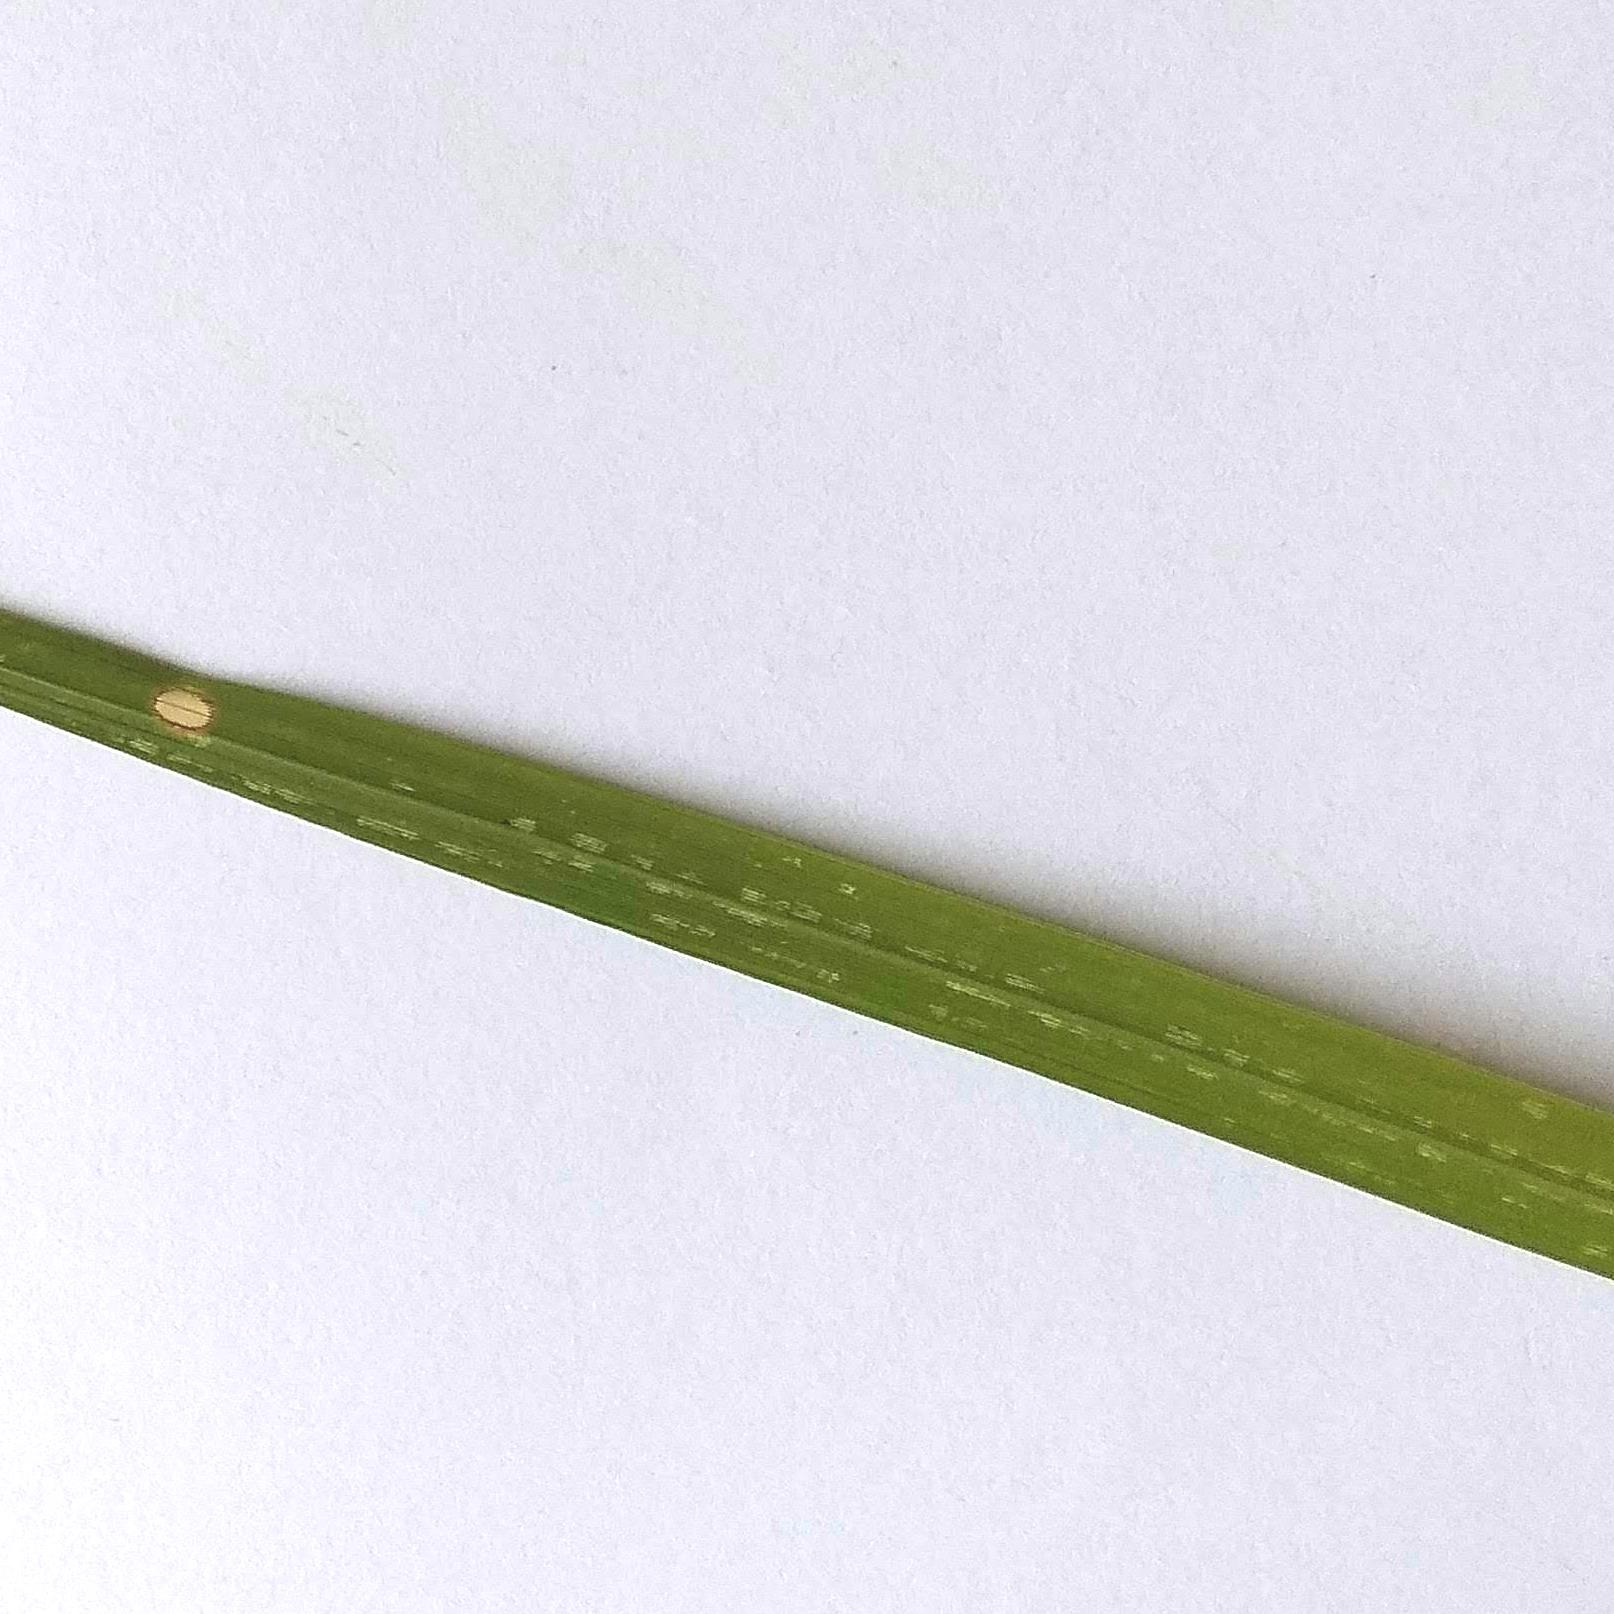1 RiceBlast: (123, 661, 231, 738)
